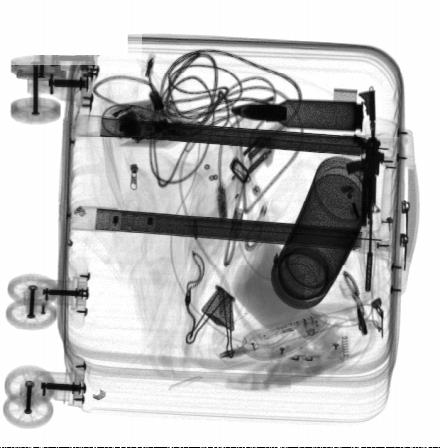Bullet: (230, 101, 363, 132)
Gun: (345, 90, 385, 293)
